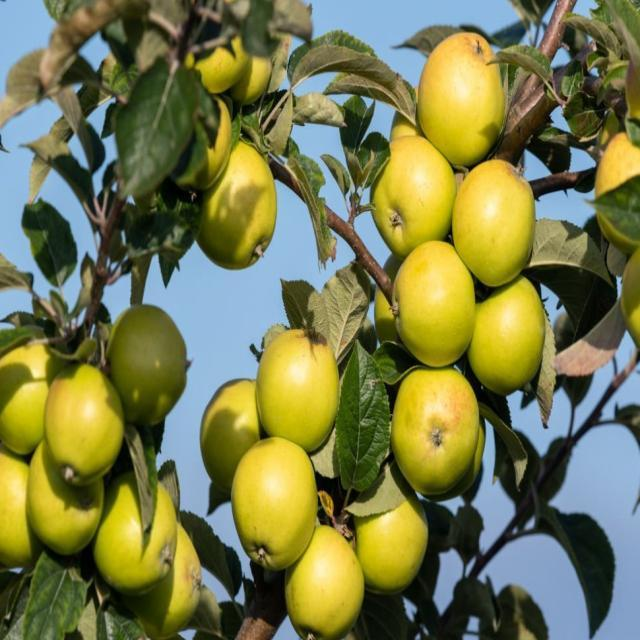Green Apple: (398, 354, 482, 486), (420, 32, 510, 151), (236, 438, 323, 557), (393, 243, 473, 366), (257, 334, 337, 450), (97, 468, 167, 597), (202, 156, 272, 280), (48, 359, 120, 476), (109, 307, 185, 415), (458, 163, 533, 271), (379, 126, 450, 240), (198, 377, 268, 491), (361, 478, 424, 593), (293, 524, 355, 640), (468, 272, 539, 372), (33, 448, 91, 561), (1, 326, 53, 451), (590, 121, 640, 225), (139, 527, 193, 620), (183, 96, 241, 179), (1, 440, 40, 560), (197, 2, 256, 80), (223, 32, 281, 108), (368, 249, 408, 357), (386, 88, 437, 158), (619, 237, 640, 340)
